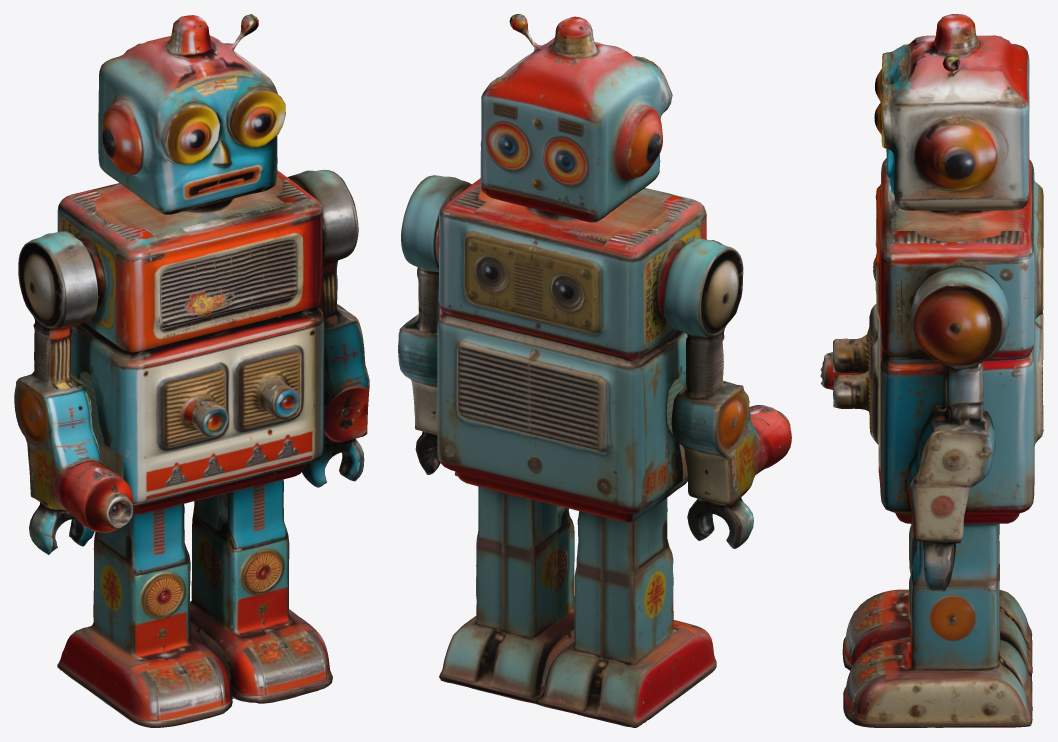
File: Japanese_tin_toy_robo_1214004600_refine.glb
3 renders of one model, left to right at view 1: azimuth 30°, elevation 25°; view 2: azimuth 150°, elevation 25°; view 3: azimuth 270°, elevation 25°, orthographic.
Bounding box in the file's own units: 1.05 × 2 × 0.6108.
1 material, 1 textured.
